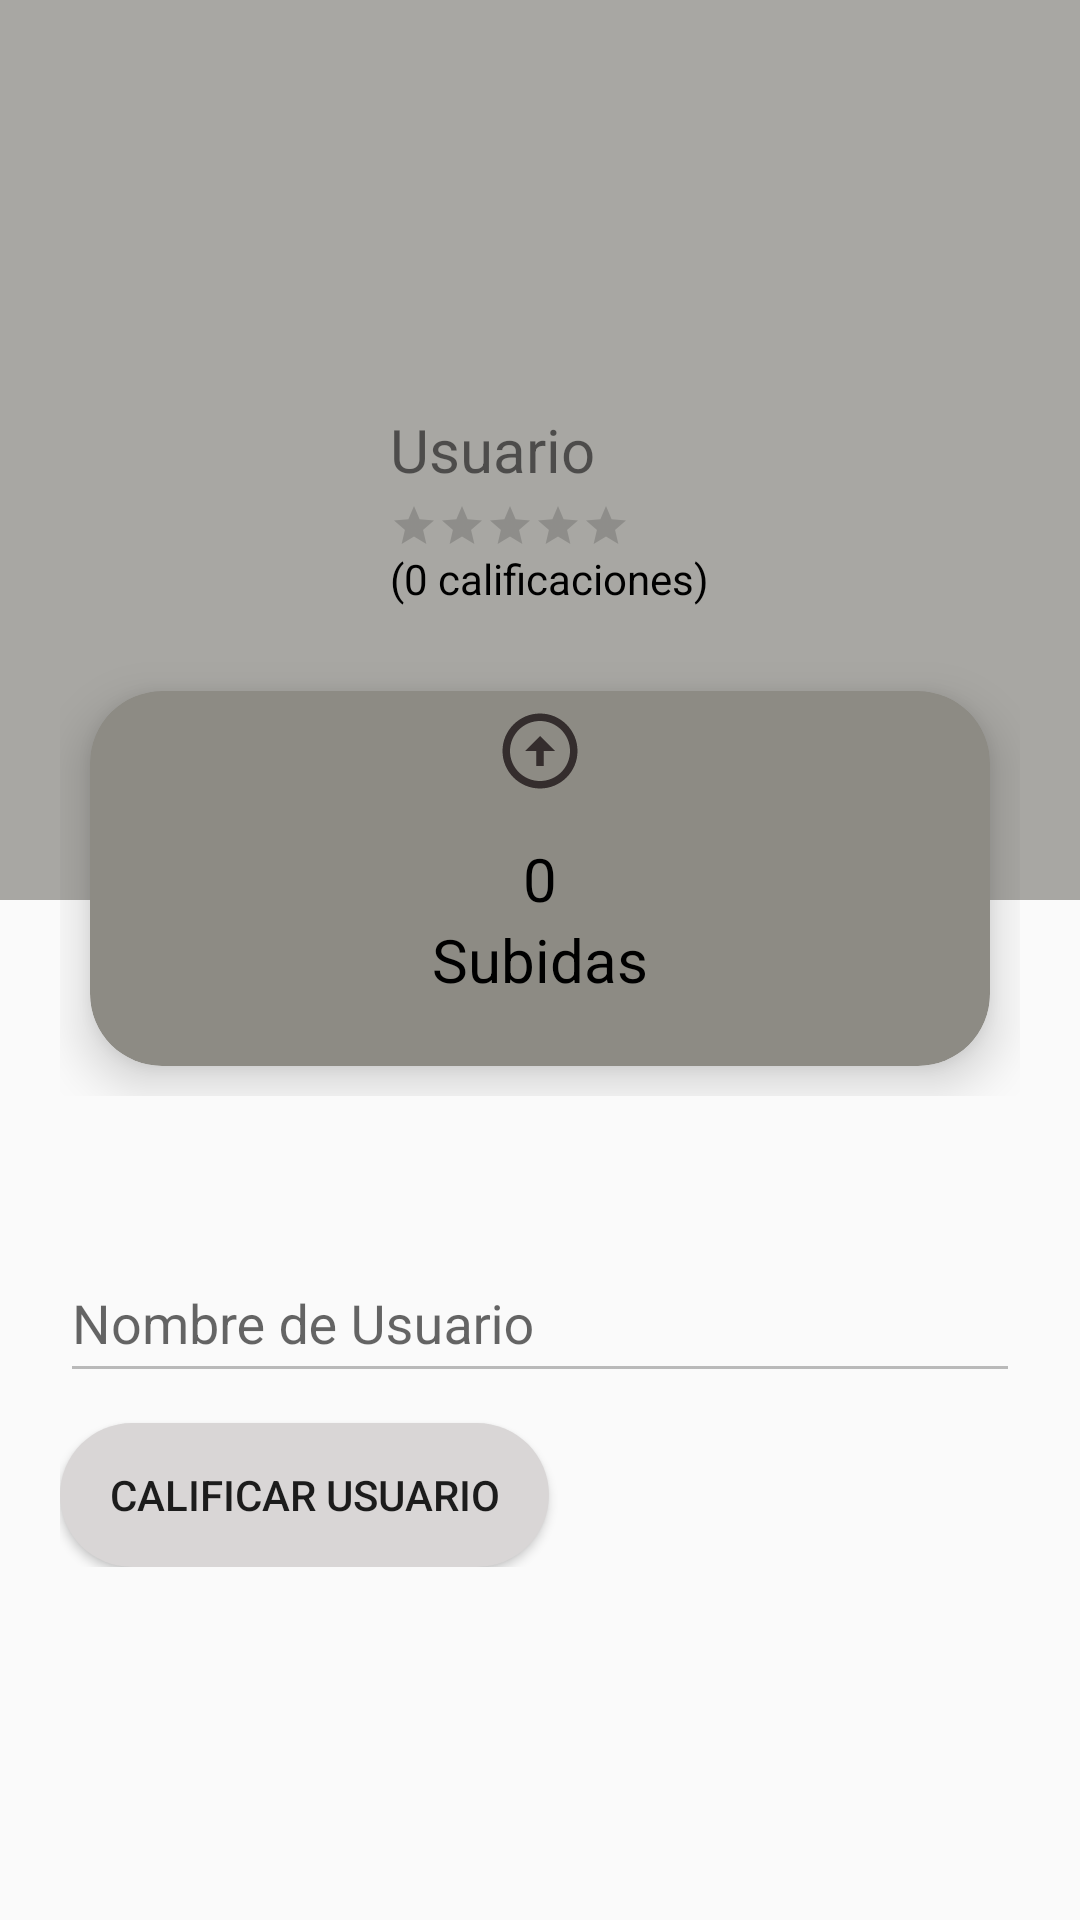

Where to tap for icons on this 1080×1920 app screen, as [x,y]:
arrow circle up: [540,751]
